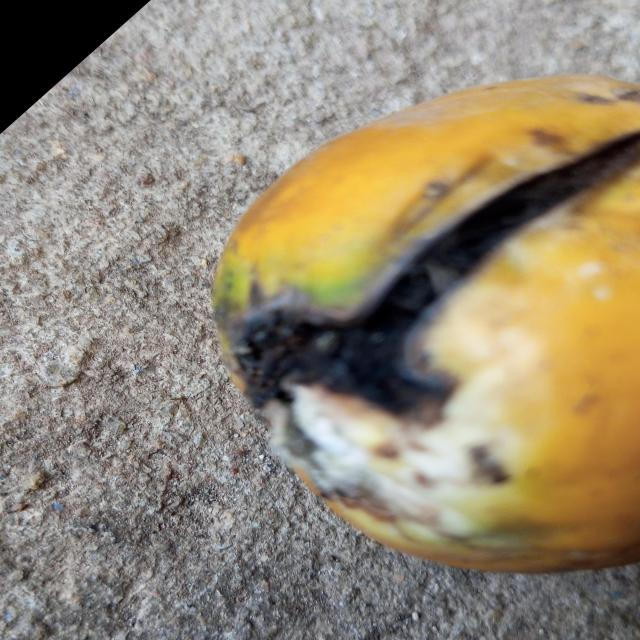damaged: (211, 75, 640, 578)
